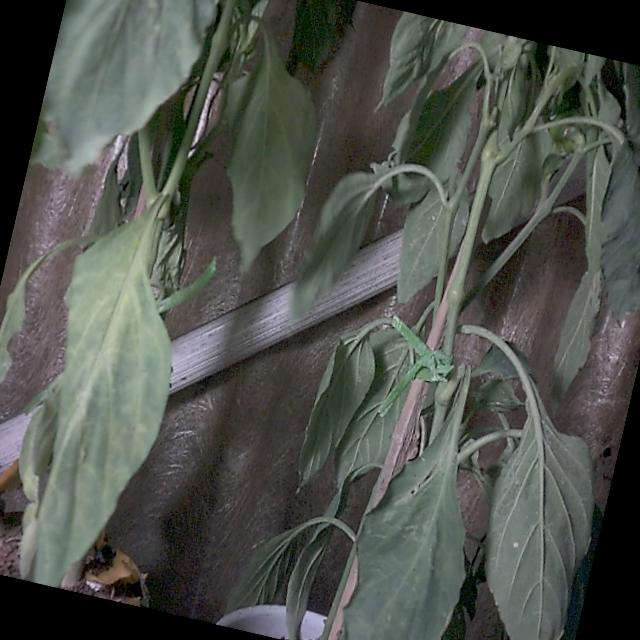Leaf: (330, 413, 497, 640), (452, 409, 615, 640)
